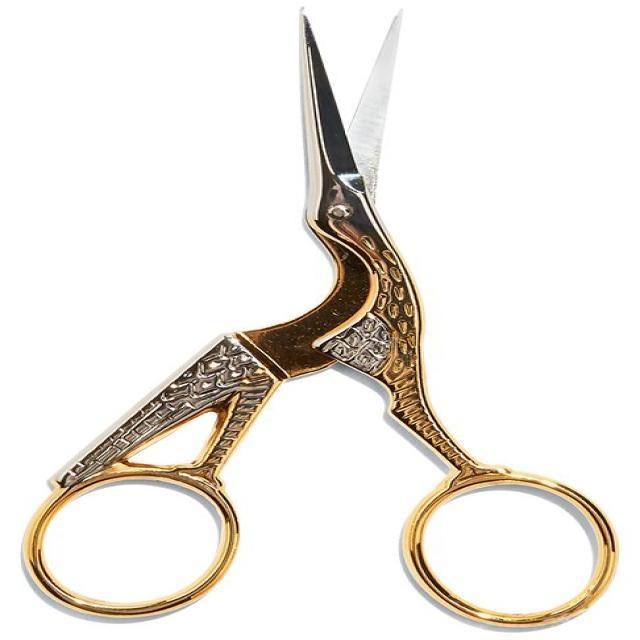Gunting: (25, 11, 616, 626)
